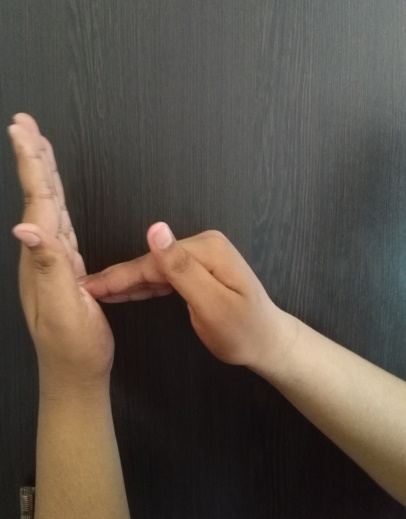ga: (6, 111, 287, 379)
